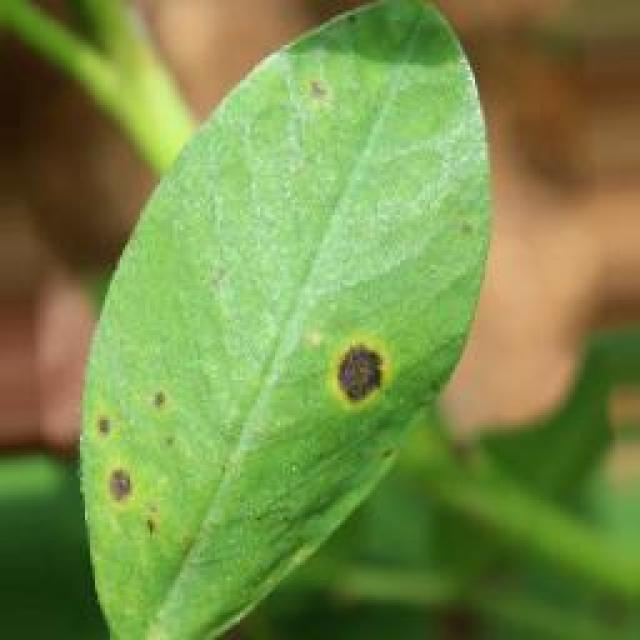Sigatoka: (81, 380, 179, 538), (302, 318, 398, 459), (272, 73, 354, 146)
